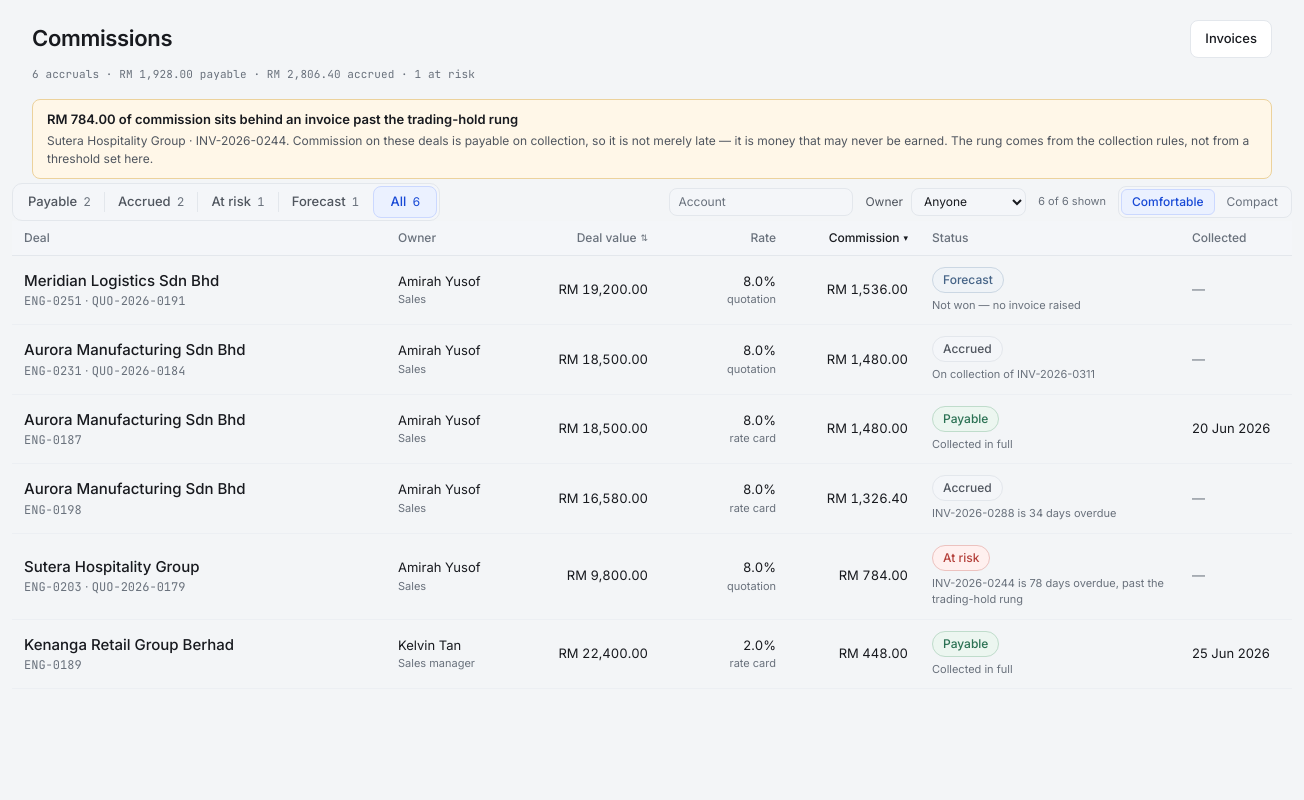
Finance › Commissions › offers an empty state rather than an empty table when nothing matches
Expected: the table named "Commission accruals" is shown, 12,220 -> 1292,689
Type "an account that does not exist" into the search field named "Search commissions".
click(761, 202); type("an account that does not exist")  # box 669,188 -> 853,216
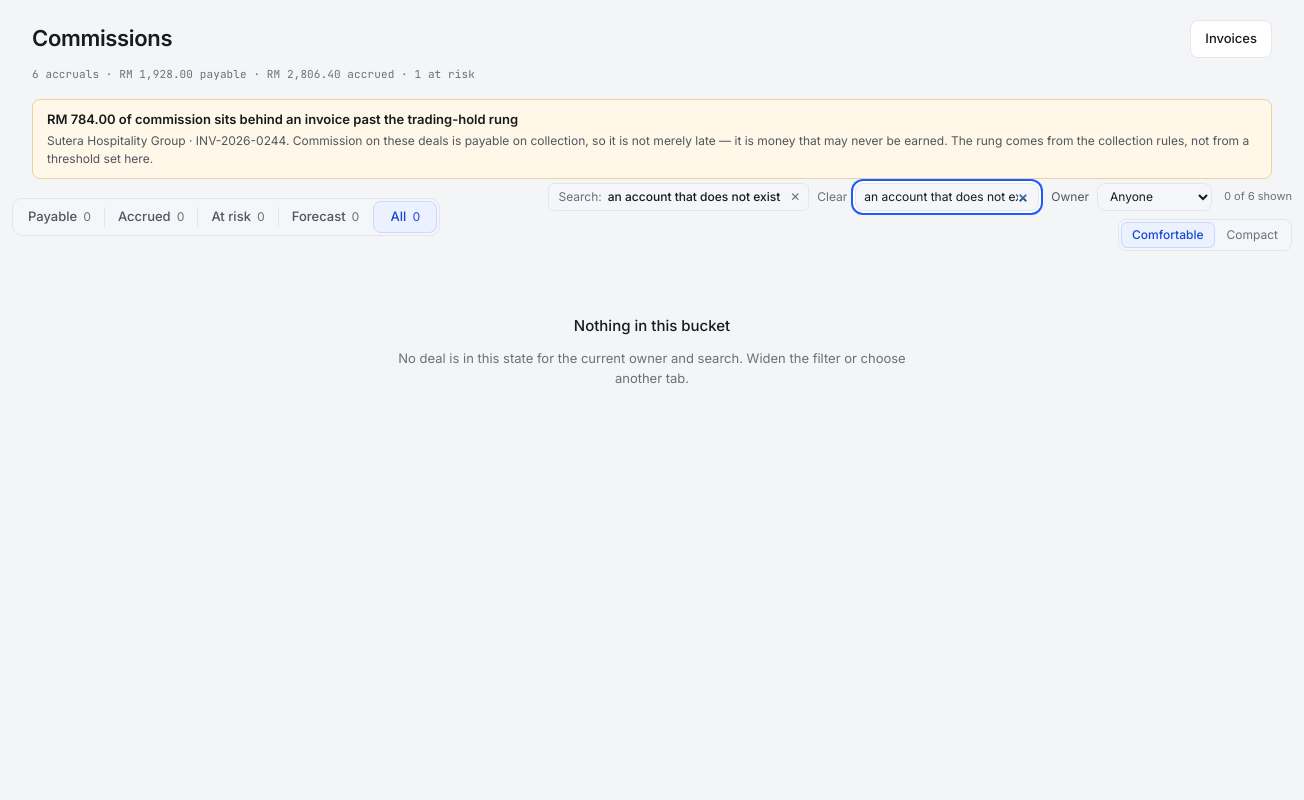
Now the text "Nothing in this bucket" is shown, box 574,314 -> 730,337
